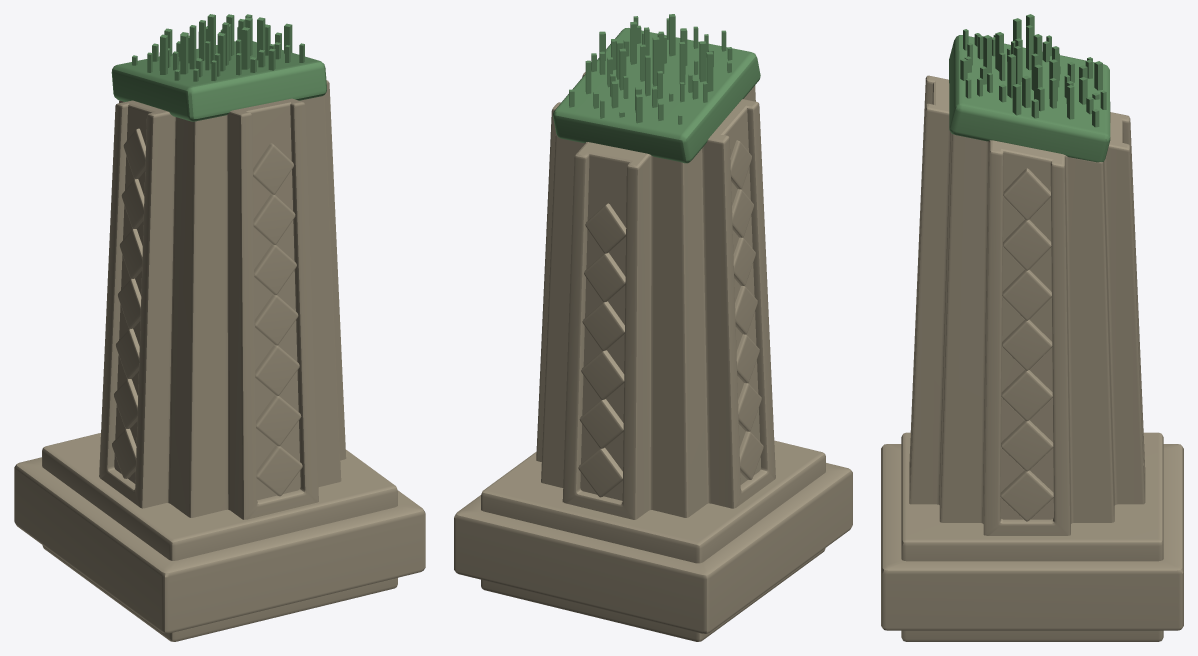
File: TemplePillarB_002.fbx
3 renders of one model, left to right at view 1: azimuth 30°, elevation 25°; view 2: azimuth 150°, elevation 25°; view 3: azimuth 270°, elevation 25°, orthographic. The views are drawn at different scales.
Parts seen in each view (by area): view 1: TemplePillarB_002; view 2: TemplePillarB_002; view 3: TemplePillarB_002.
Part boxes in pixels (x1,y1,x2,y2): TemplePillarB_002: (14, 14, 425, 641); TemplePillarB_002: (454, 14, 852, 641); TemplePillarB_002: (881, 14, 1183, 641).
Bounding box in the file's own units: 1.16 × 2.33 × 1.16.
